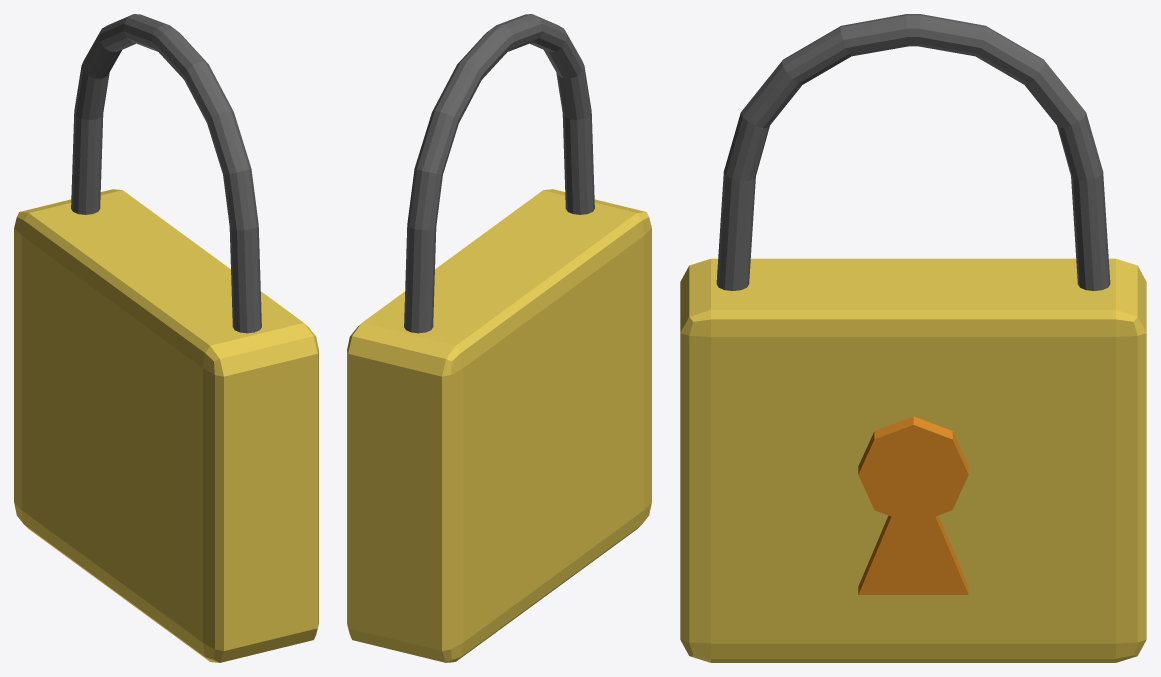
File: candado.fbx
3 renders of one model, left to right at view 1: azimuth 30°, elevation 25°; view 2: azimuth 150°, elevation 25°; view 3: azimuth 270°, elevation 25°, orthographic. The views are drawn at different scales.
Parts seen in each view (by area): view 1: Cube, Plane; view 2: Cube, Plane; view 3: Cube, Plane.
Boxes of the visible parts, <box> form: Cube: <box>14,189,318,662</box>; Plane: <box>71,14,261,333</box>; Cube: <box>347,189,651,662</box>; Plane: <box>404,14,594,333</box>; Cube: <box>680,258,1146,662</box>; Plane: <box>716,14,1110,290</box>.
Size of the model in its own units: 88.16 by 379 by 258.
